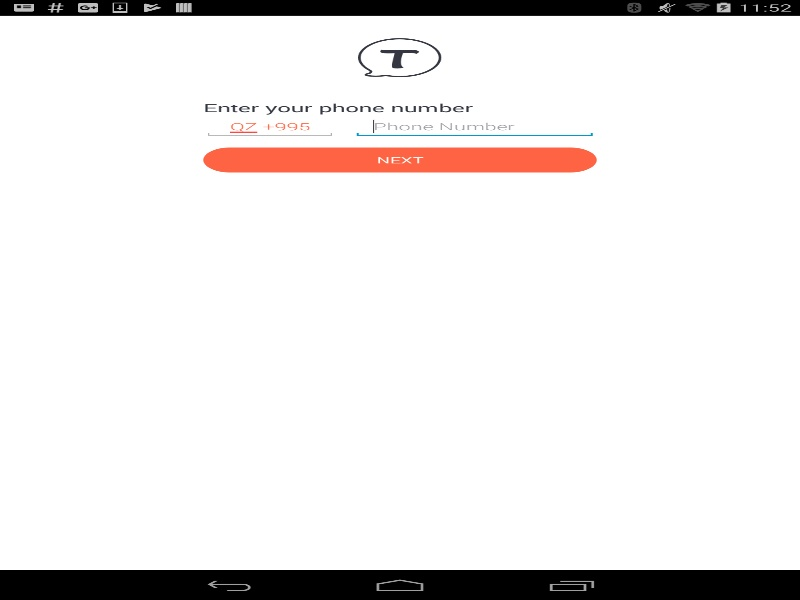Button: (203, 147, 596, 172)
Input: (352, 115, 597, 138), (202, 115, 337, 138)
